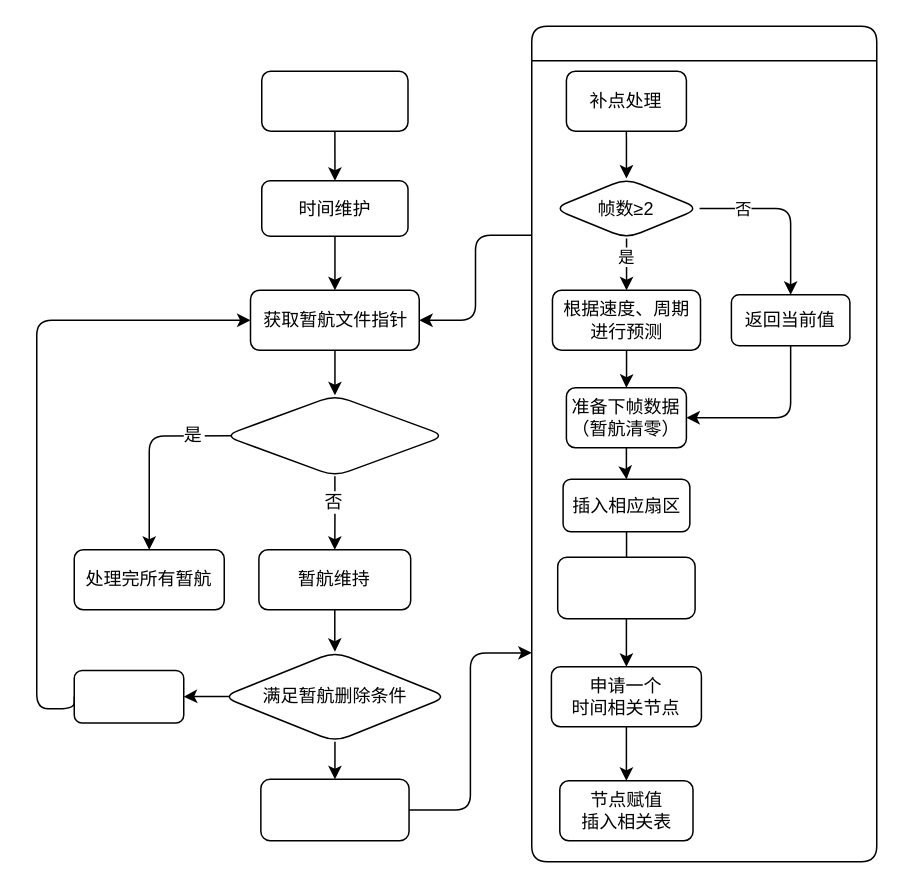
Image size: 903x888. Some labels were removed from this diagram. The shapes that lost their labels are listed below. From the top down, each one's box as (x1, y1, x2, y2) in pixels, then its label:
(260, 70, 408, 131): 自动起始处理
(223, 394, 446, 476): 形成稳定航迹
(530, 25, 877, 862): 暂航处理
(556, 556, 695, 619): 预测下帧暂航 录取时间
(73, 669, 184, 723): 删除暂航
(259, 778, 409, 841): 继续暂航处理
